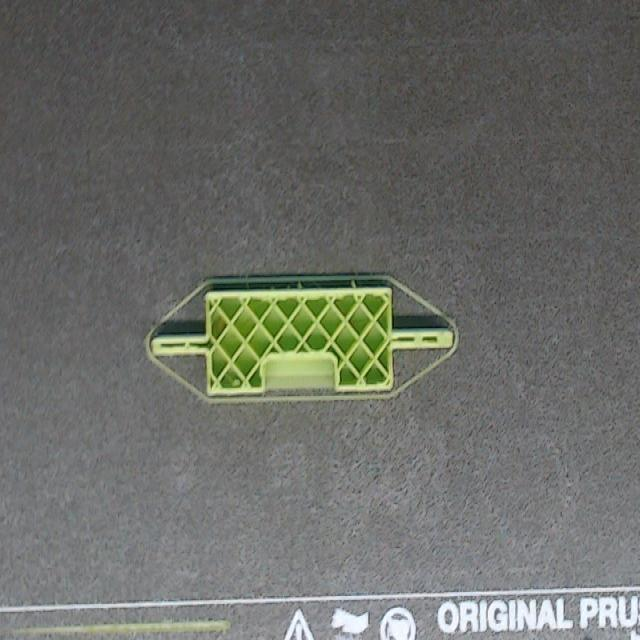mistake: (296, 281, 303, 288), (351, 280, 356, 287)
